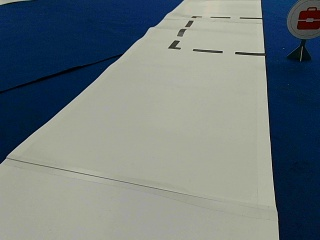company: (287, 0, 319, 38)
